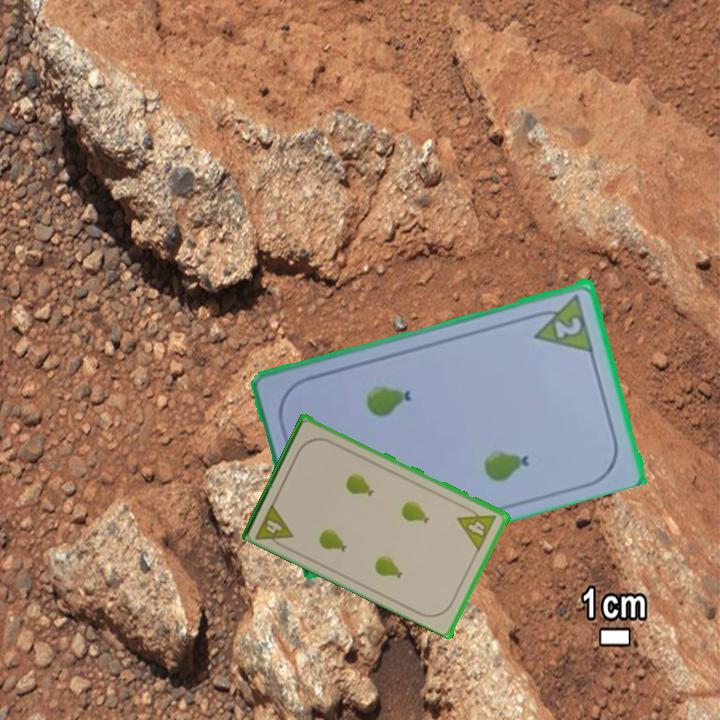2p: (551, 312, 585, 341)
4p: (252, 498, 297, 552), (454, 502, 499, 553)
